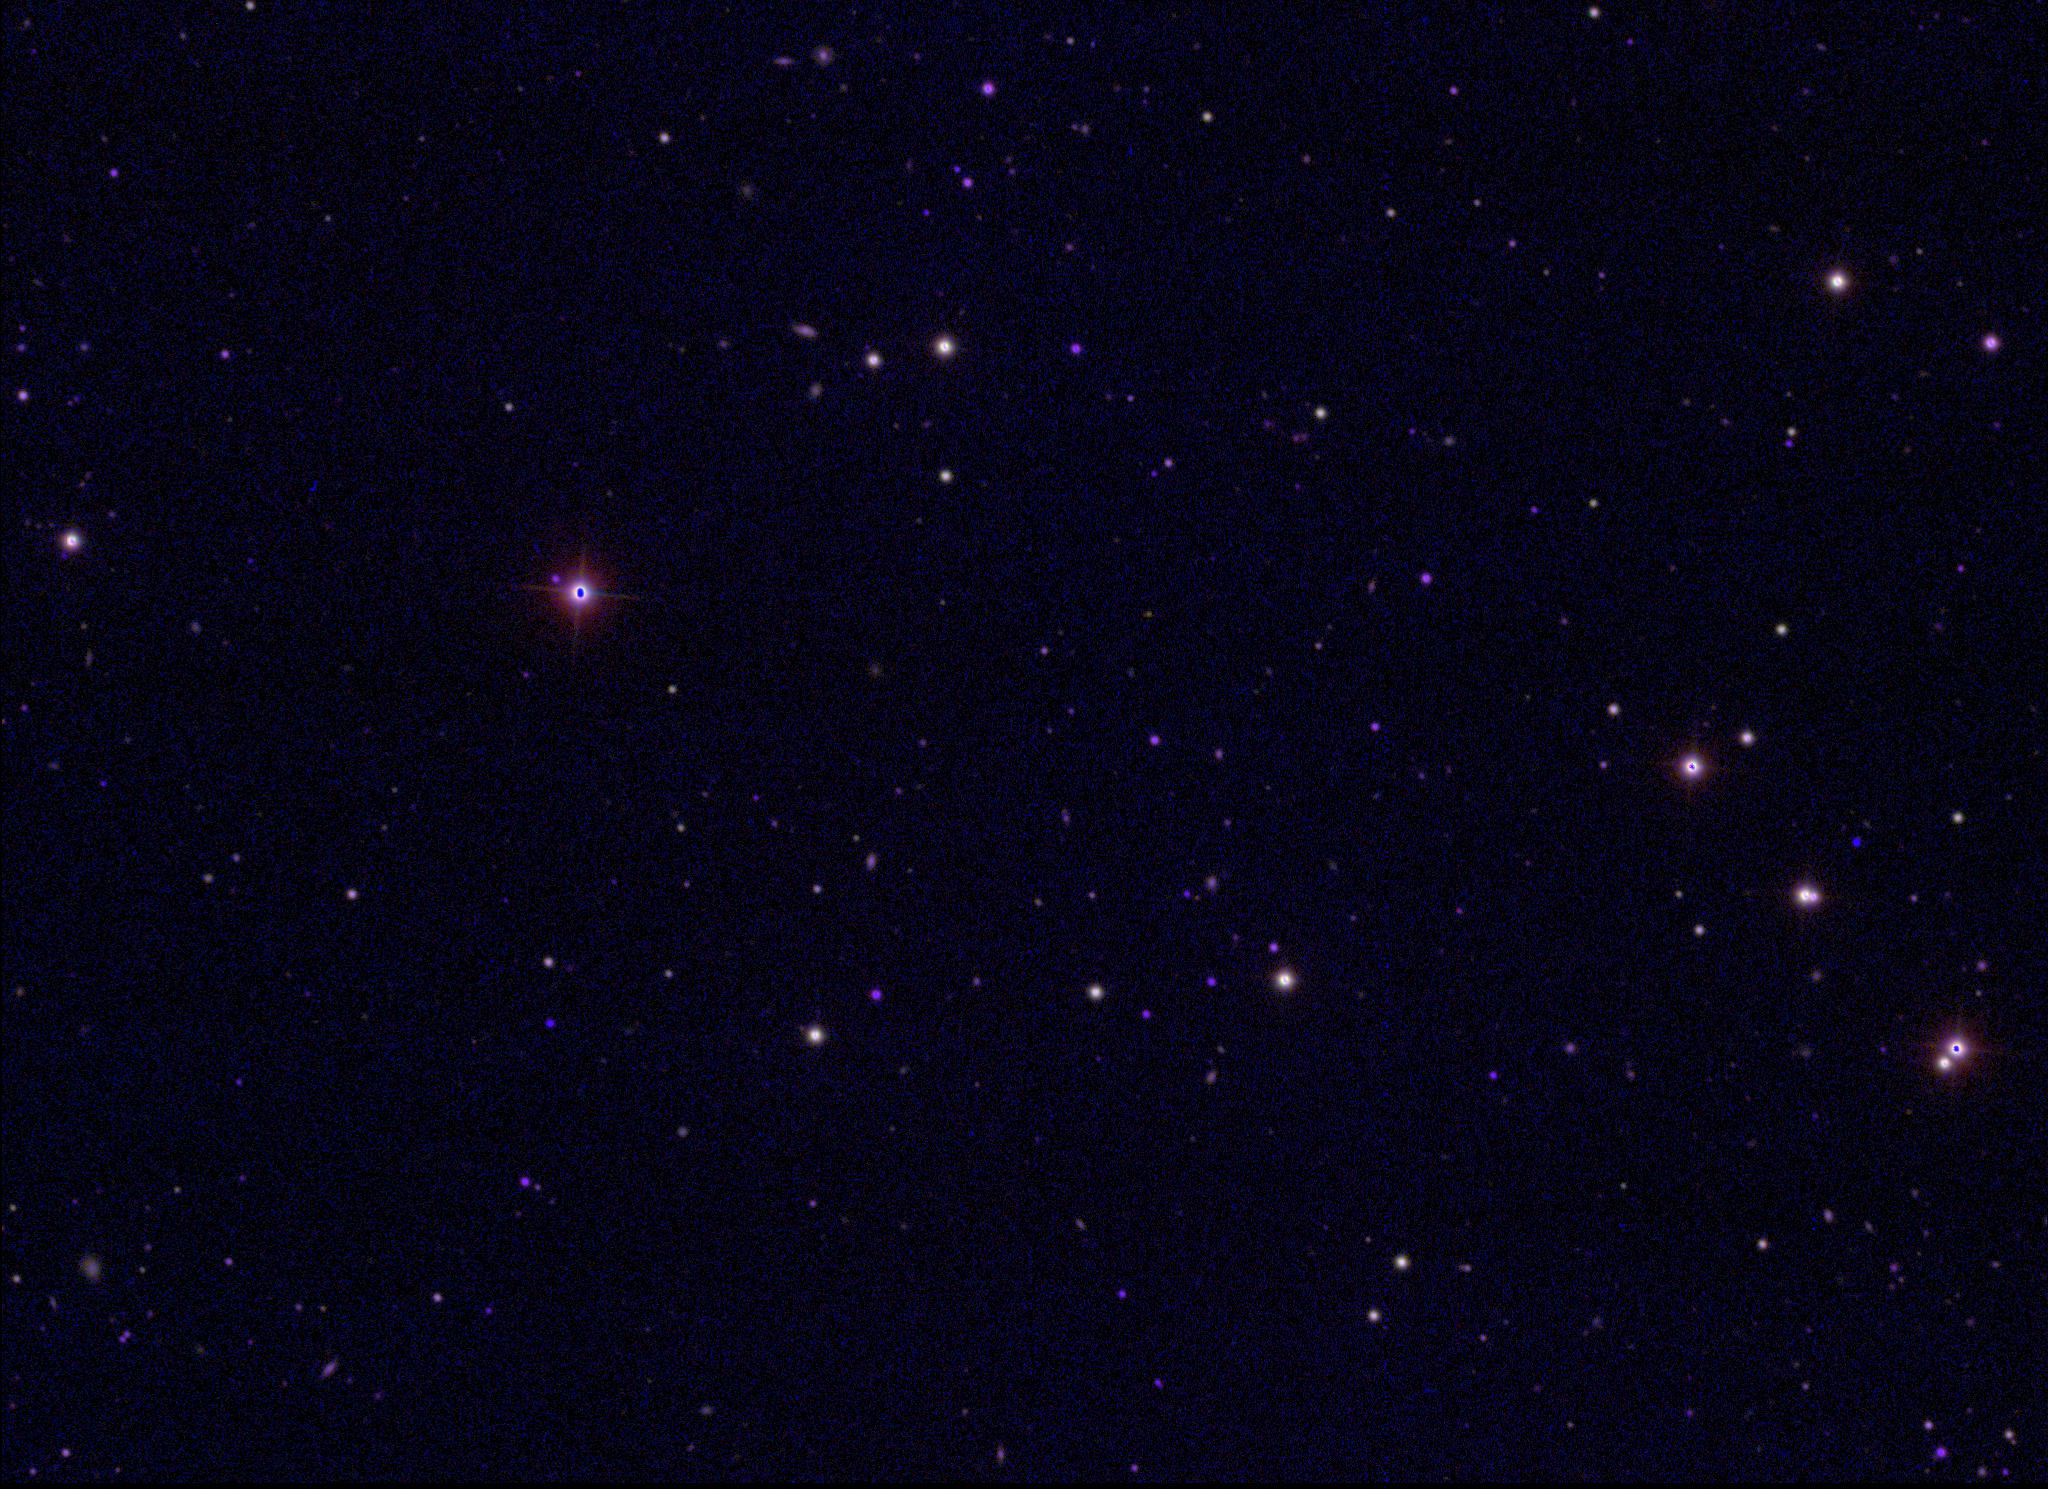L: (1849, 837, 1864, 849)
